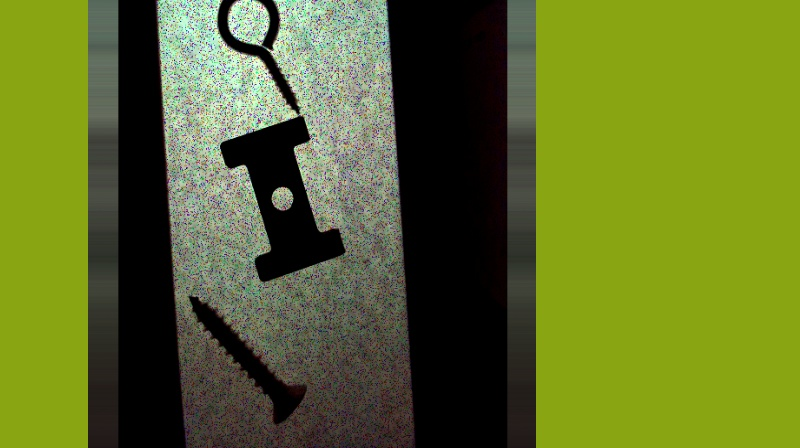O001: (214, 0, 301, 113)
O002: (218, 116, 345, 280)
S001: (187, 292, 307, 424)
